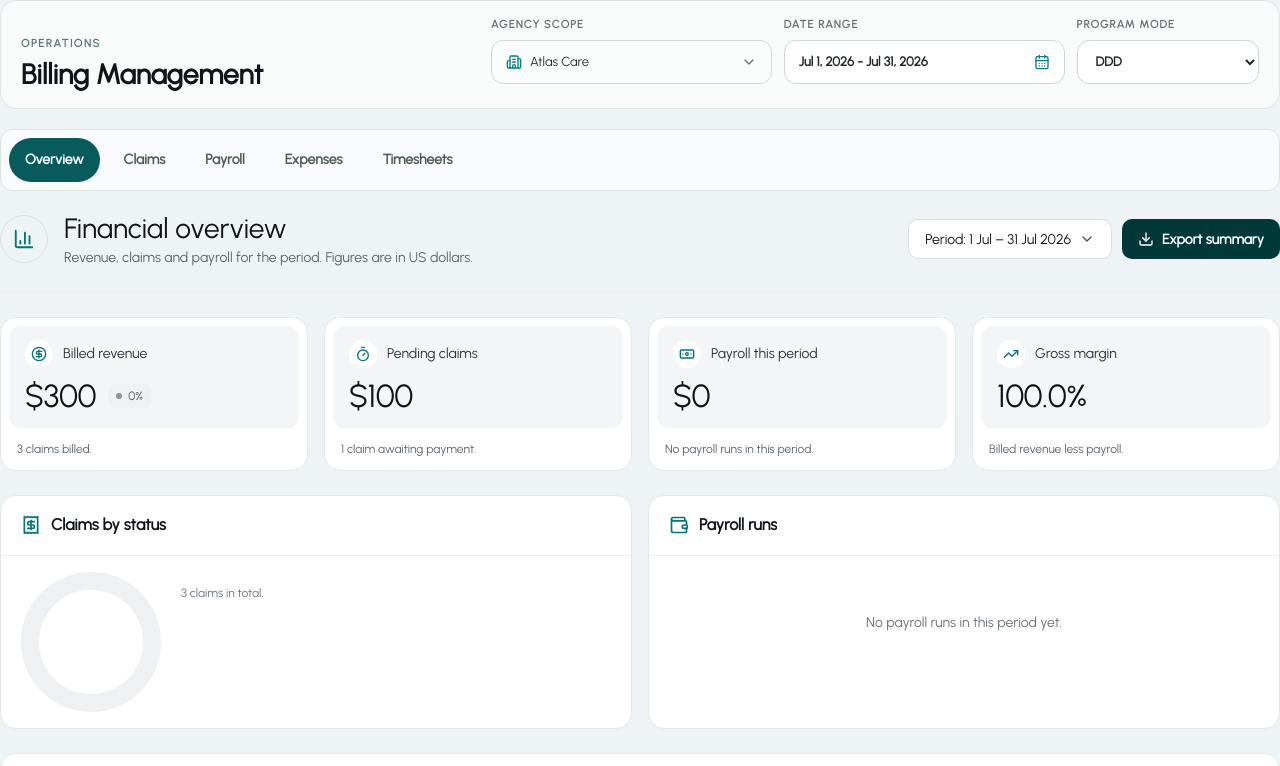
Scenario: SuperAdminBillingWorkspace › drives the production financial overview render and requests from workspace dates
Click the button "Period: 1 Jul – 31 Jul 2026": (1010, 239) [908, 219, 1112, 259]
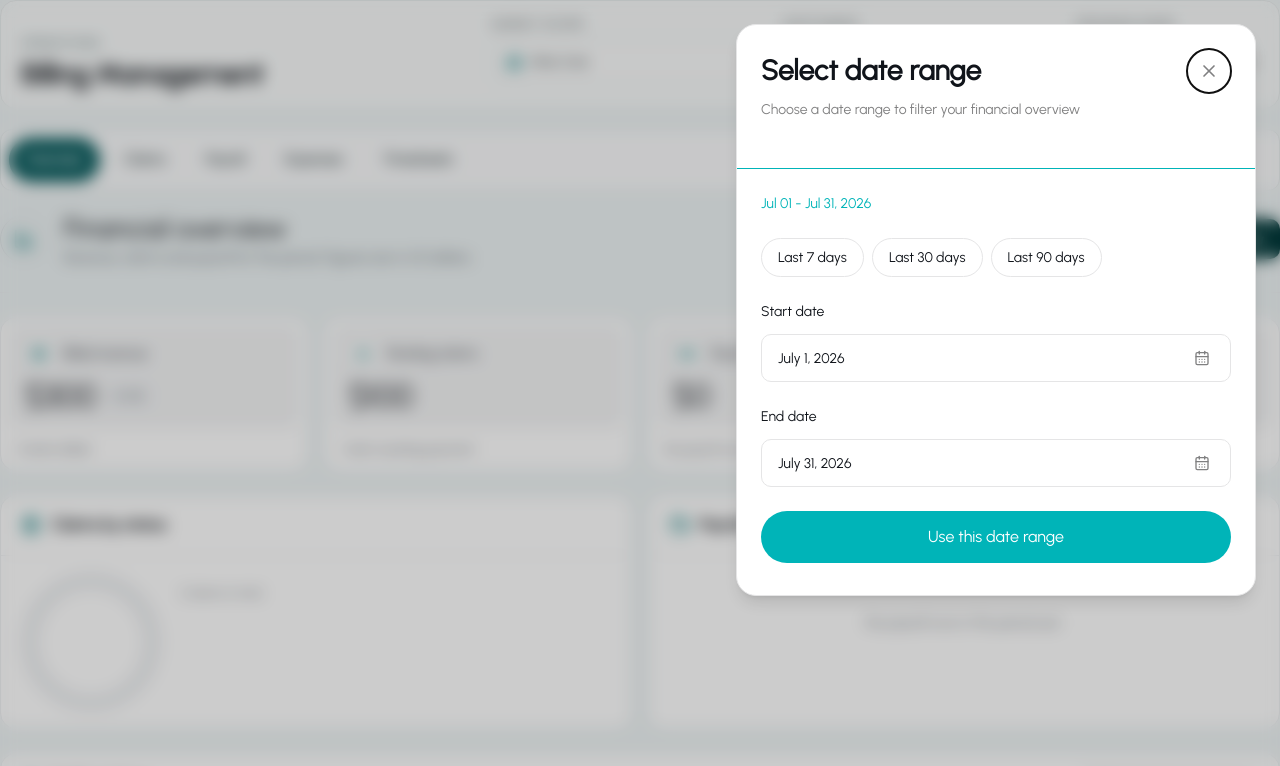
Click the button "Last 7 days": (812, 258) [761, 238, 864, 277]
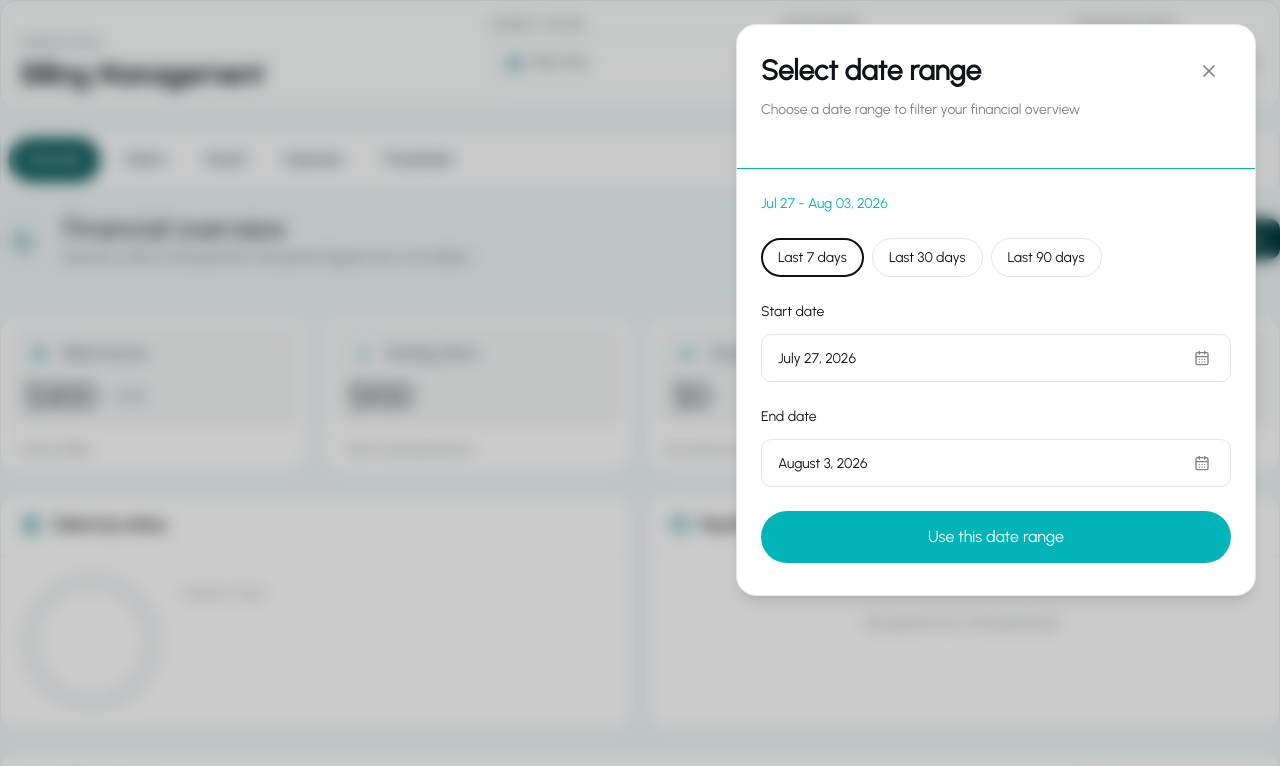
Click the button "Use this date range": (996, 537) [761, 511, 1231, 563]
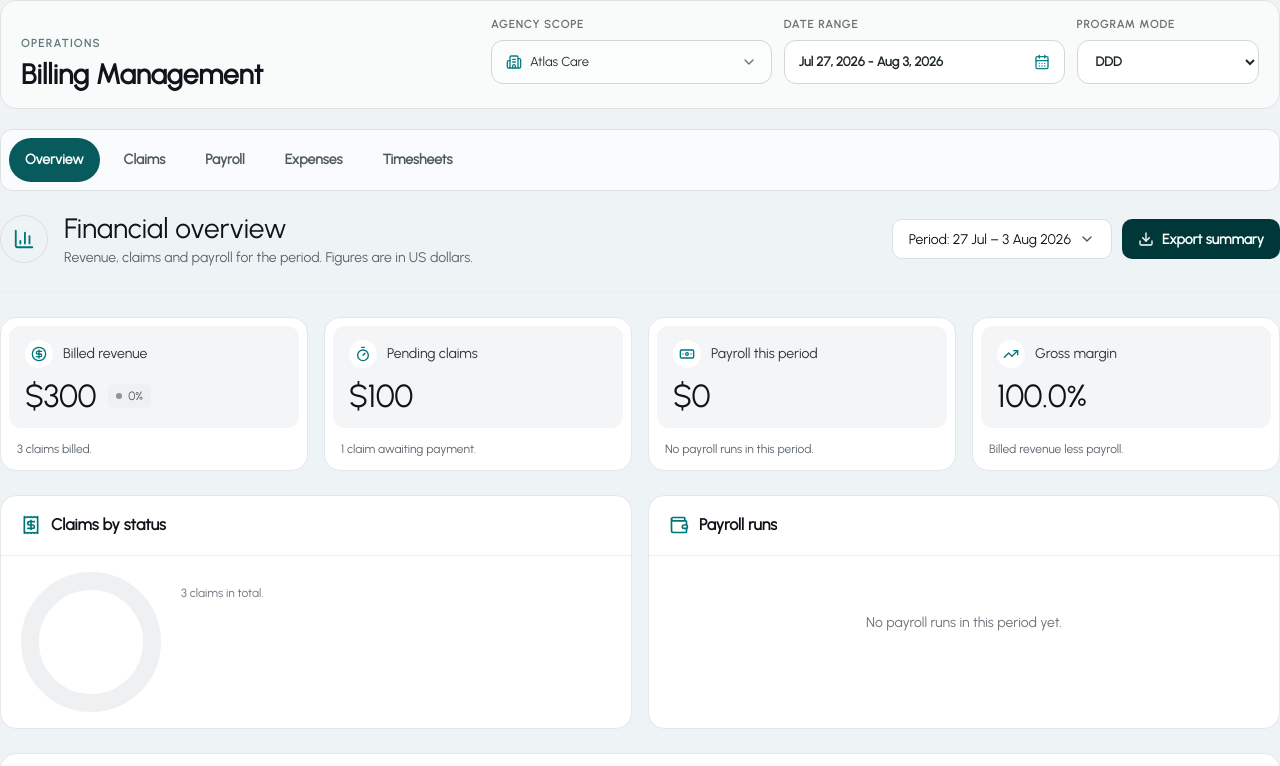
Expected: the button "Period: 27 Jul – 3 Aug 2026" is shown, [892, 219, 1112, 259]
